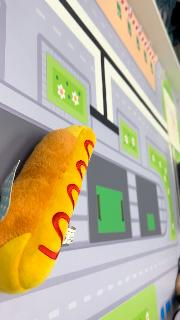hotdog: (1, 125, 97, 295)
